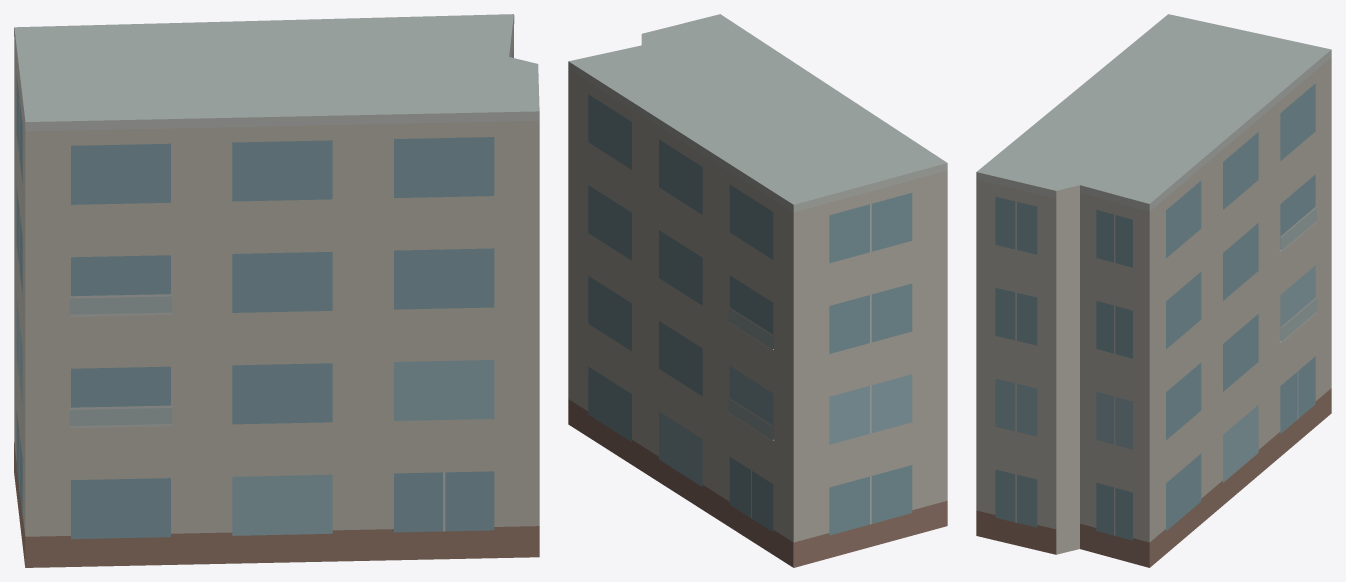
The model's file is survey-upis-32727152.glb.
3 renders of one model, left to right at view 1: azimuth 30°, elevation 25°; view 2: azimuth 150°, elevation 25°; view 3: azimuth 270°, elevation 25°, orthographic. The views are drawn at different scales.
Visible parts, largest first — view 1: survey-upis-32727152.tmp; view 2: survey-upis-32727152.tmp; view 3: survey-upis-32727152.tmp.
Part boxes in pixels (x1,y1,x2,y2): survey-upis-32727152.tmp: (14,14,539,567); survey-upis-32727152.tmp: (568,14,947,567); survey-upis-32727152.tmp: (976,14,1331,567).
Size of the model in its own units: 13.11 by 11.7 by 10.36.
